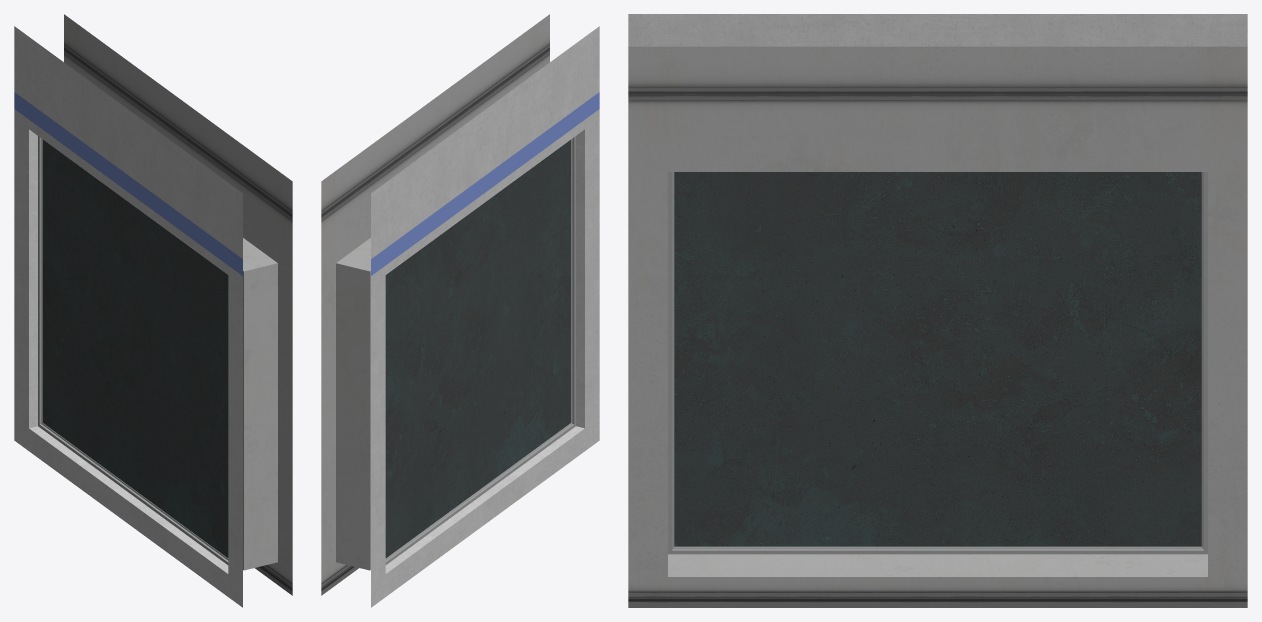
Rendered from MB_Showcase_02.fbx.
3 renders of one model, left to right at view 1: azimuth 30°, elevation 25°; view 2: azimuth 150°, elevation 25°; view 3: azimuth 270°, elevation 25°, orthographic. The views are drawn at different scales.
Parts seen in each view (by area): view 1: MB_Showcase_02; view 2: MB_Showcase_02; view 3: MB_Showcase_02.
Boxes of the visible parts, box(x1,y1,x2,y2) form: MB_Showcase_02: box(14, 14, 292, 607); MB_Showcase_02: box(321, 14, 599, 607); MB_Showcase_02: box(628, 14, 1247, 607).
Bounding box in the file's own units: 50 × 400 × 400.
